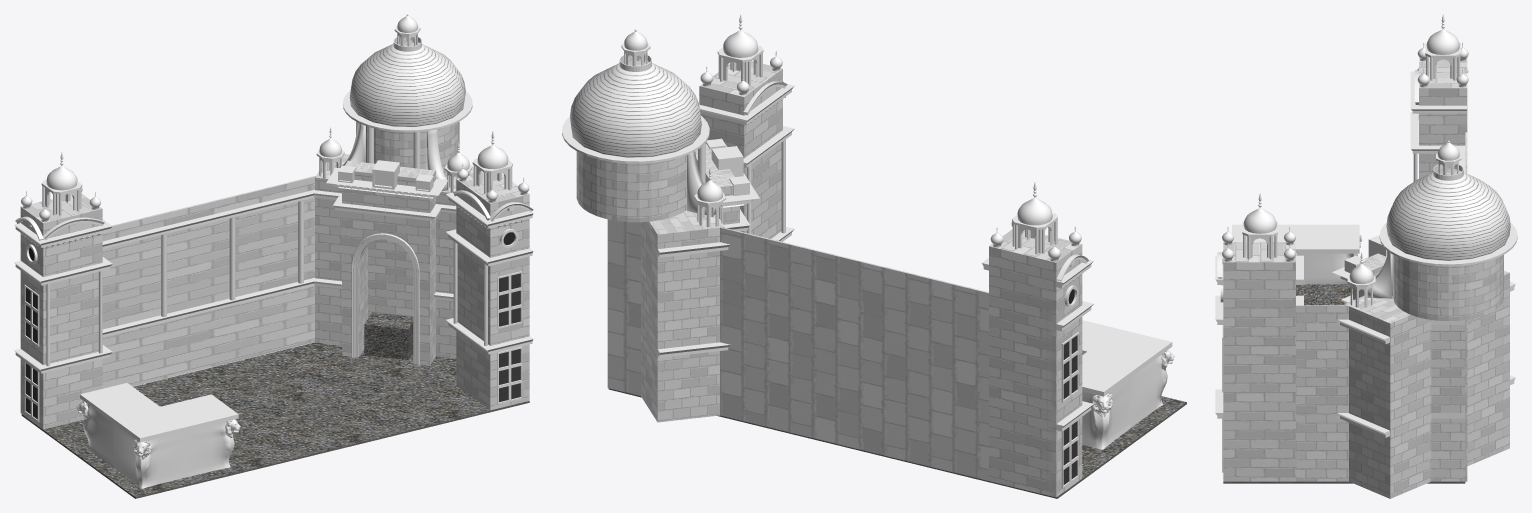
The model's file is victoria_memorial.glb.
3 views of the same model, side by side, from view 1: azimuth 30°, elevation 25°; view 2: azimuth 150°, elevation 25°; view 3: azimuth 270°, elevation 25° (orthographic). The views are drawn at different scales.
Visible parts, largest first — view 1: Cube, Plane.027, Sphere.001, Cube.008, Cube.003, Cube.024, Cube.061, Circle.004, Cube.059, Plane.013, Circle.022, Plane.004 (+19 smaller); view 2: Cube, Sphere.001, Circle.004, Plane.027, Cube.061, Cube.024, Cube.060, Cube.008, Circle.005, Plane.002, Plane.003, Cube.031 (+4 smaller); view 3: Cube, Sphere.001, Circle.004, Cube.061, Plane.027, Circle.005, Cube.060, BezierCurve, Cube.019, Sphere.026, Sphere.031, Cube.005 (+5 smaller).
Boxes of the visible parts, <box> form: Cube: <box>20,154,529,429</box>; Plane.027: <box>21,342,529,498</box>; Sphere.001: <box>349,40,465,126</box>; Cube.008: <box>113,421,230,487</box>; Cube.003: <box>102,196,291,337</box>; Cube.024: <box>113,394,238,442</box>; Cube.061: <box>80,383,183,439</box>; Circle.004: <box>356,121,459,176</box>; Cube.059: <box>364,312,413,360</box>; Plane.013: <box>351,233,419,364</box>; Circle.022: <box>161,200,303,316</box>; Plane.004: <box>497,346,522,404</box>; Cube: <box>607,61,1082,497</box>; Sphere.001: <box>570,58,701,157</box>; Circle.004: <box>576,151,686,222</box>; Plane.027: <box>608,388,1186,498</box>; Cube.061: <box>1082,331,1168,396</box>; Cube.024: <box>1082,320,1172,364</box>; Cube.060: <box>1082,377,1130,448</box>; Cube.008: <box>1131,354,1165,427</box>; Circle.005: <box>562,116,709,163</box>; Plane.002: <box>1061,332,1078,402</box>; Plane.003: <box>1061,419,1078,488</box>; Cube.031: <box>699,84,794,124</box>; Cube: <box>1223,57,1509,498</box>; Sphere.001: <box>1386,168,1510,260</box>; Circle.004: <box>1393,255,1503,321</box>; Cube.061: <box>1238,224,1359,253</box>; Plane.027: <box>1223,284,1465,483</box>; Circle.005: <box>1379,222,1517,266</box>; Cube.060: <box>1305,253,1357,284</box>; BezierCurve: <box>1367,251,1392,298</box>; Cube.019: <box>1410,71,1466,113</box>; Sphere.026: <box>1243,208,1276,233</box>; Sphere.031: <box>1426,29,1459,54</box>; Cube.005: <box>1410,111,1457,153</box>.
Size of what is drawn, in the model's own units: 6.11 by 4.19 by 3.41.
10 materials, 5 textured.
